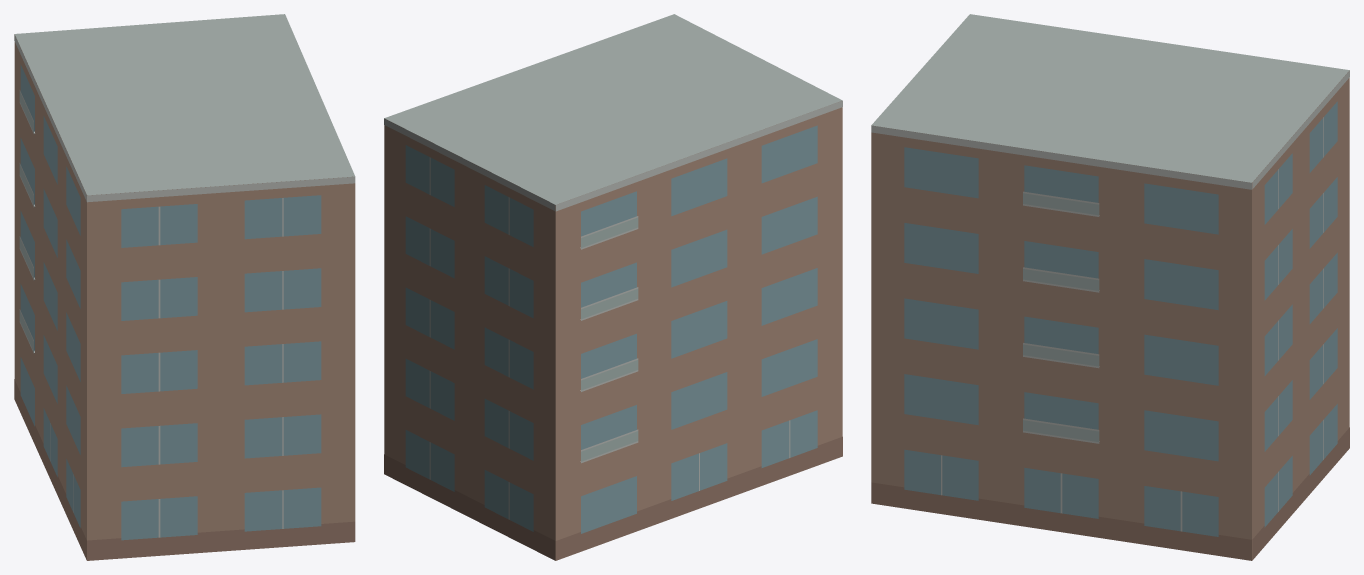
Rendered from survey-upis-32884098.glb.
3 views of the same model, side by side, from view 1: azimuth 30°, elevation 25°; view 2: azimuth 150°, elevation 25°; view 3: azimuth 270°, elevation 25° (orthographic). The views are drawn at different scales.
Visible parts, largest first — view 1: survey-upis-32884098.tmp; view 2: survey-upis-32884098.tmp; view 3: survey-upis-32884098.tmp.
Part boxes in pixels (x1,y1,x2,y2): survey-upis-32884098.tmp: (14,14,355,560); survey-upis-32884098.tmp: (384,14,842,560); survey-upis-32884098.tmp: (871,14,1349,560).
Bounding box in the file's own units: 12.56 × 13.1 × 15.04.
